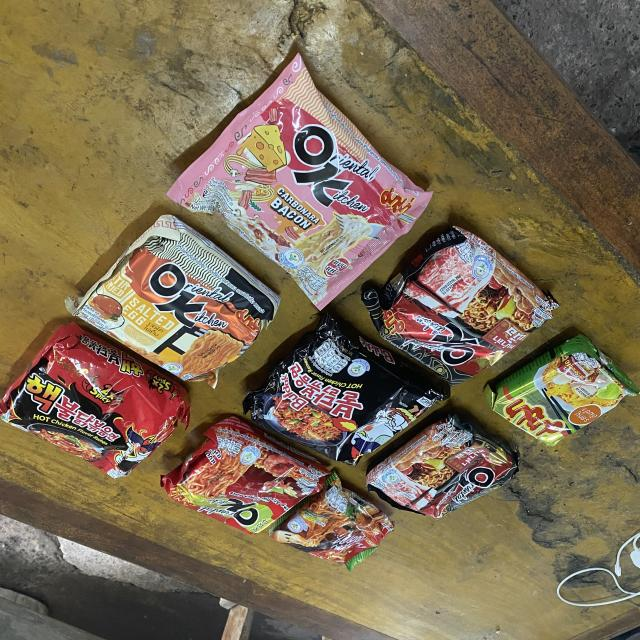plastik: (167, 54, 432, 309), (65, 215, 280, 387), (243, 313, 450, 466), (362, 226, 559, 386), (0, 324, 190, 478), (161, 417, 328, 534), (485, 335, 639, 447), (367, 414, 517, 518), (269, 473, 394, 571)
